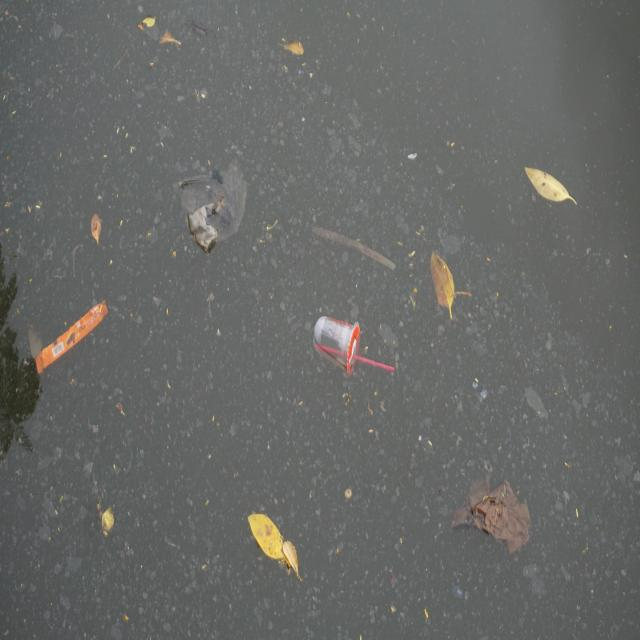Bungkus Makanan: (33, 292, 116, 383)
Bungkus Minuman: (310, 305, 368, 385)
Kantong Plastik: (185, 159, 252, 257)
